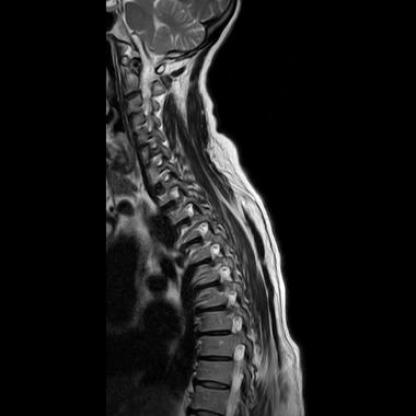Disc Bulgerotation: (132, 132, 166, 154)
